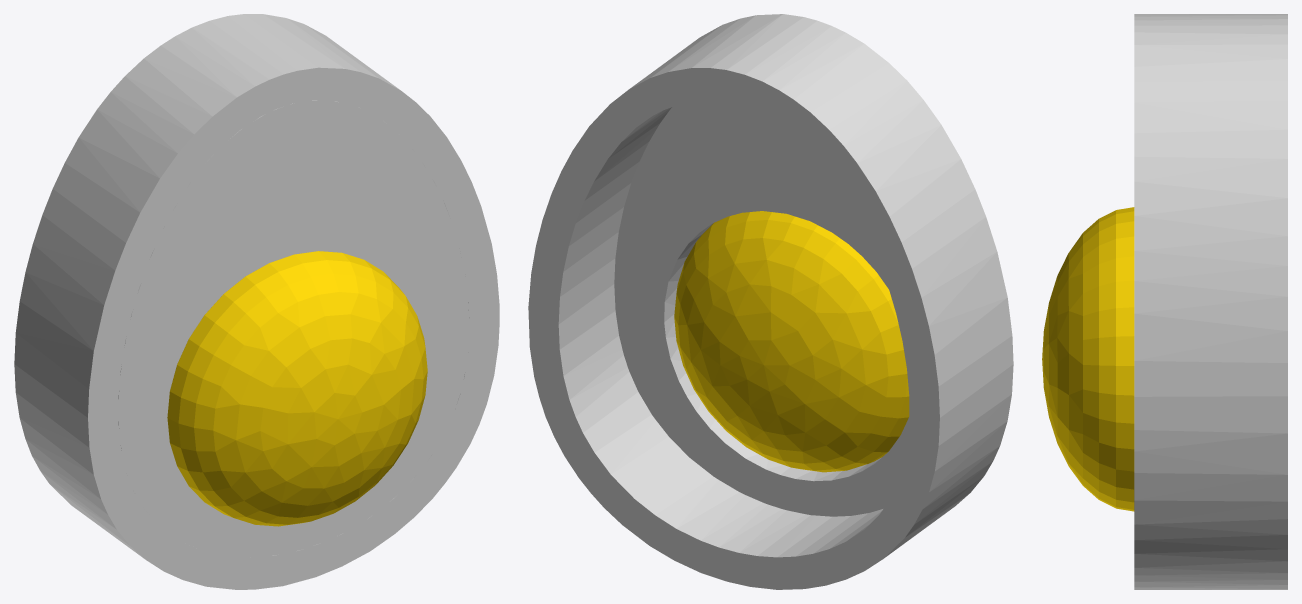
The model's file is topping_egg.glb.
3 views of the same model, side by side, from view 1: azimuth 30°, elevation 25°; view 2: azimuth 150°, elevation 25°; view 3: azimuth 270°, elevation 25° (orthographic). The views are drawn at different scales.
Visible parts, largest first — view 1: Cube.702; view 2: Cube.702; view 3: Cube.702.
Boxes of the visible parts, x1,y1,x2,y2 form: Cube.702: (14,14,499,589); Cube.702: (528,14,1013,589); Cube.702: (1042,14,1287,589).
Bounding box in the file's own units: 6.74 × 8.01 × 3.34.
